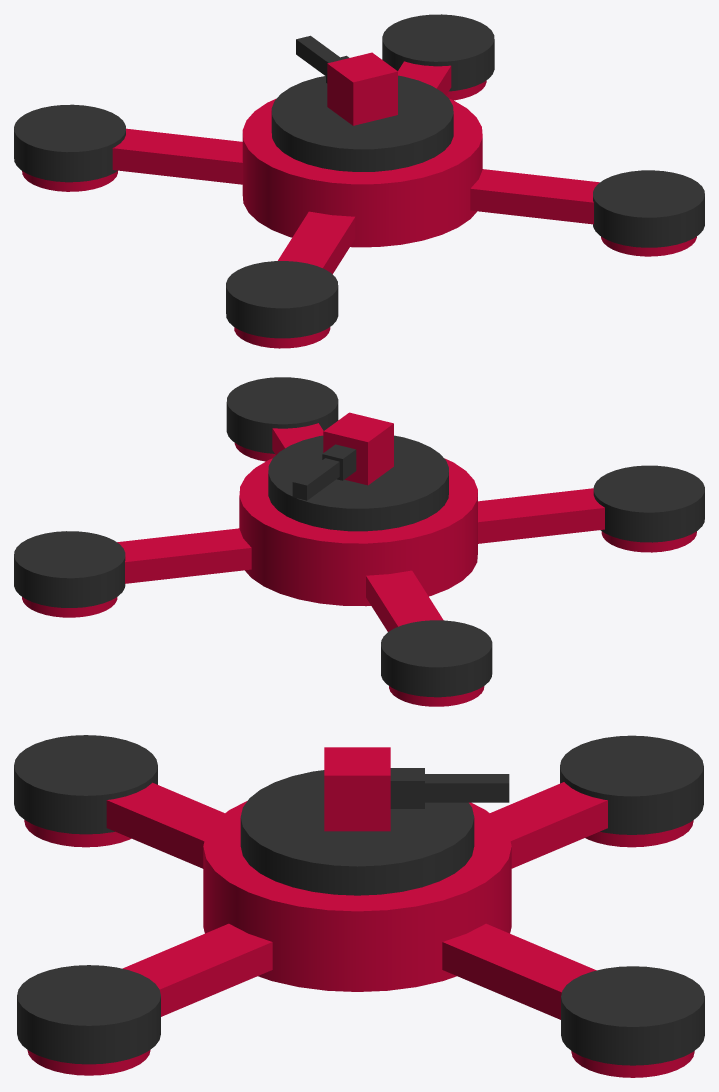
The model's file is enemy.obj.
The picture shows the model from 3 angles, top to bottom: view 1: azimuth 30°, elevation 25°; view 2: azimuth 150°, elevation 25°; view 3: azimuth 270°, elevation 25°; orthographic projection. The views are drawn at different scales.
Parts seen in each view (by area): view 1: Cube; view 2: Cube; view 3: Cube.
Part boxes in pixels (box(x1,y1,x2,y2)): Cube: box(14, 14, 704, 348); Cube: box(14, 377, 704, 706); Cube: box(14, 735, 704, 1077).
Bounding box in the file's own units: 2.24 × 0.7773 × 2.24.
2 materials, 2 textured.
